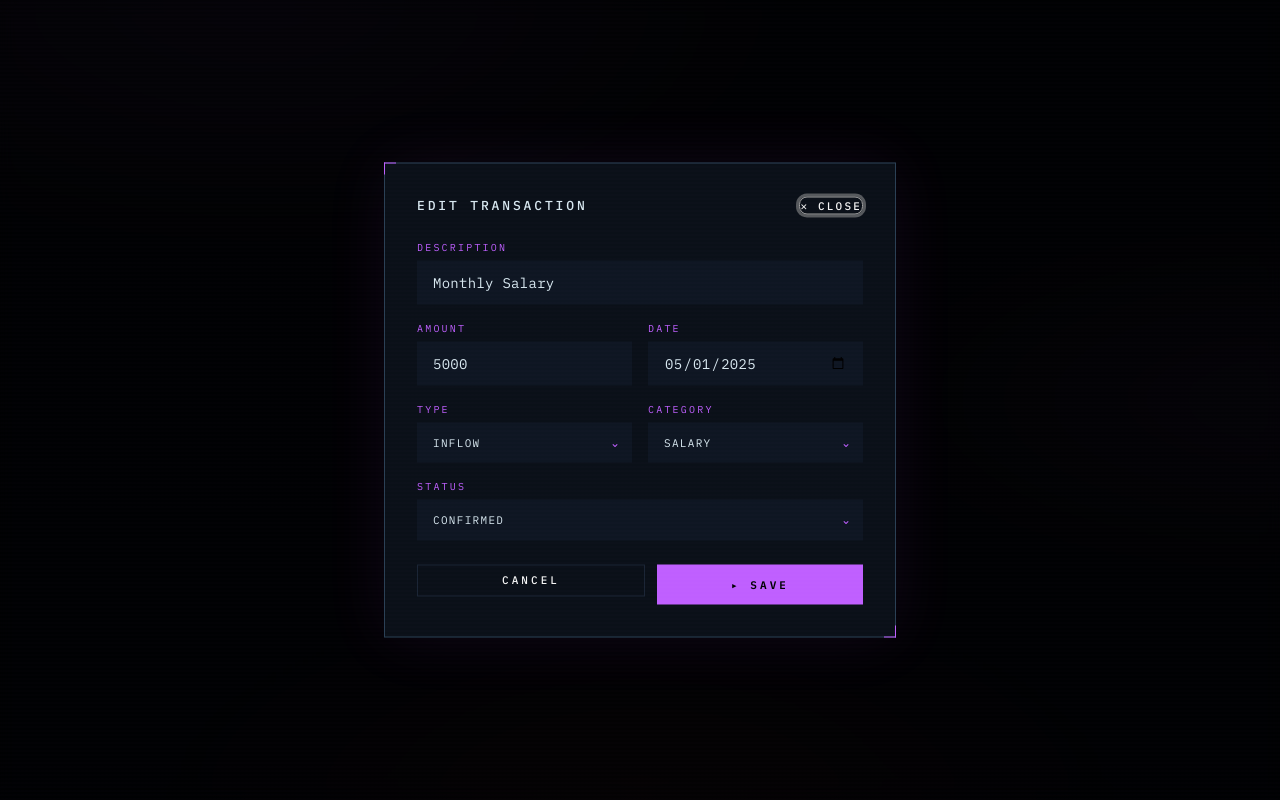
Test: EditTransactionModal › validation › shows amount error when amount is negative
Replace the text in the number field with "-50" at (524, 363), box [417,341,632,385]
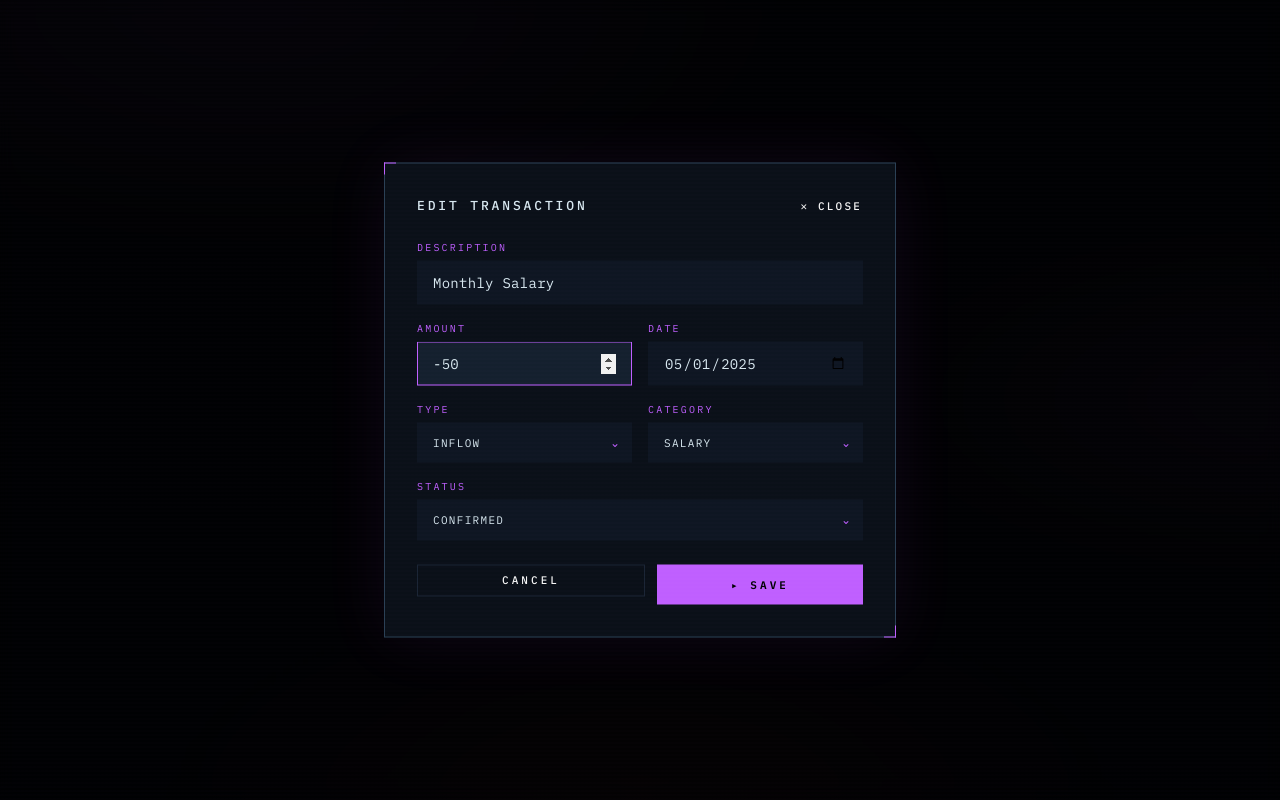
Click the button "▸ Save" at (760, 584), box [657,564,863,604]
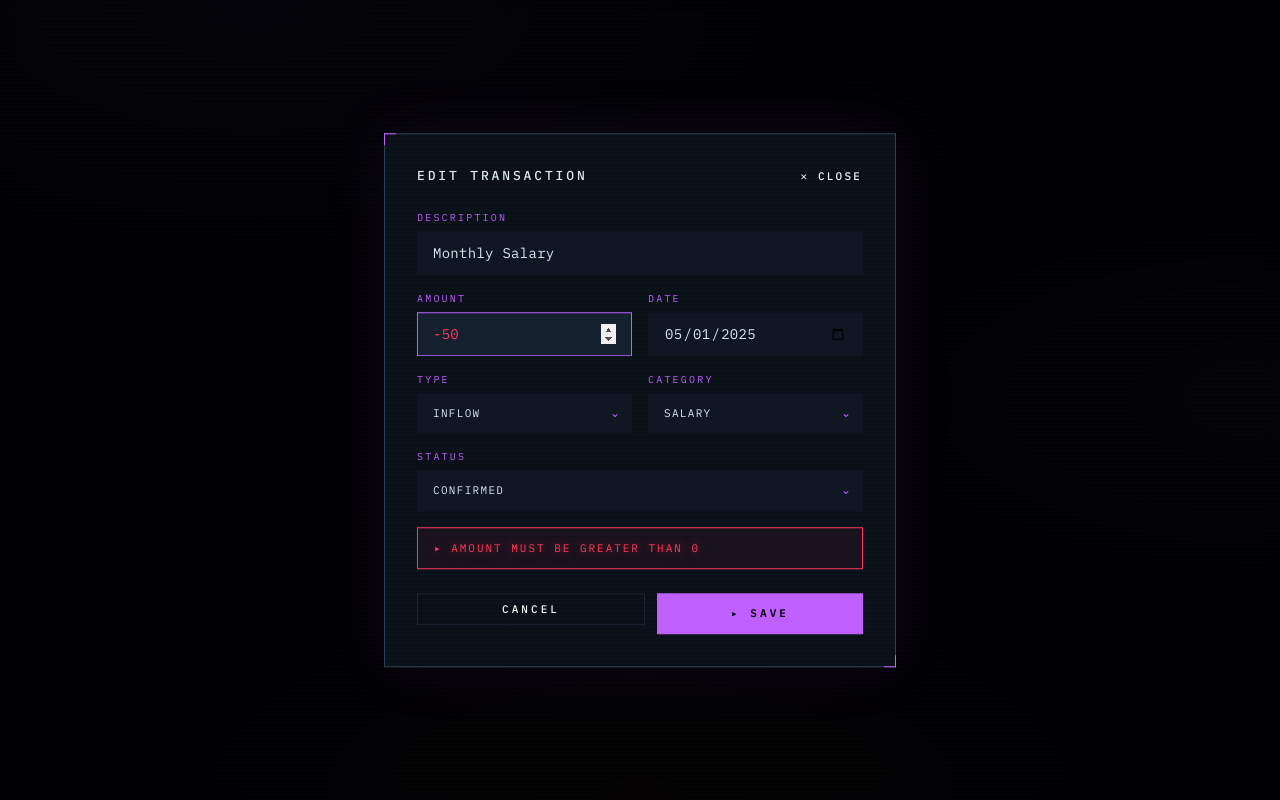
Check: the text "▸ Amount must be greater than 0" is shown, box [434,541,700,555]
